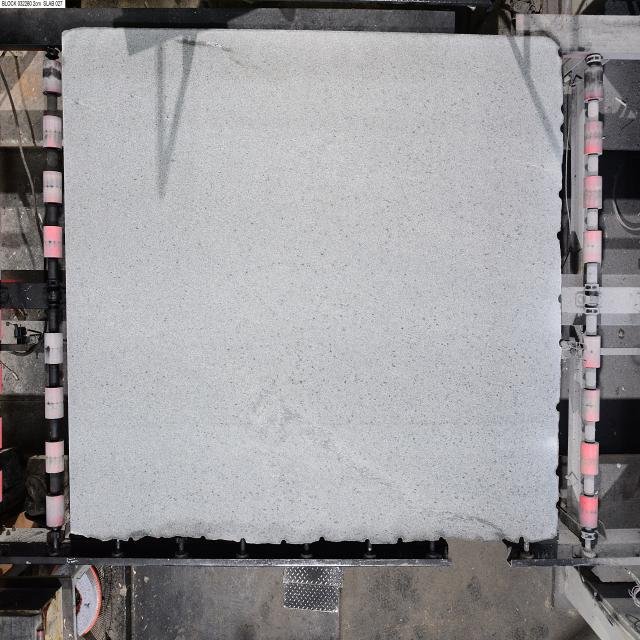chapa: (62, 30, 562, 544)
veio: (557, 186, 567, 202), (554, 400, 562, 414), (518, 534, 526, 546), (396, 537, 404, 547)
